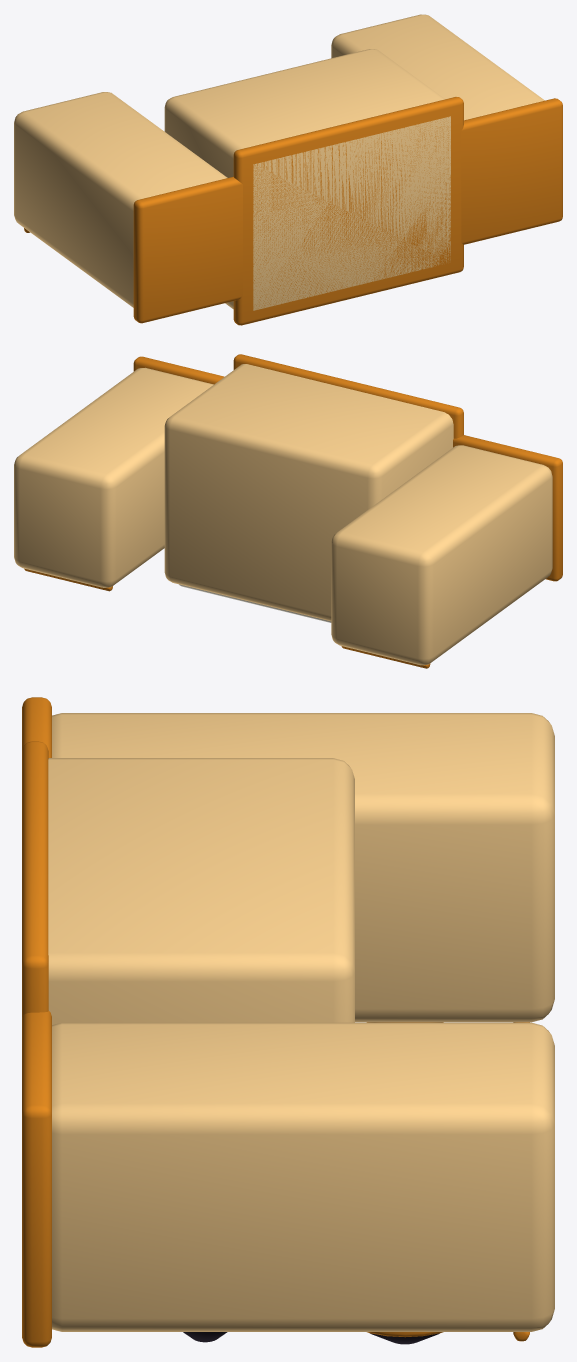
The model's file is SpeakerSystem_Premium.fbx.
3 views of the same model, one above another, from view 1: azimuth 30°, elevation 25°; view 2: azimuth 150°, elevation 25°; view 3: azimuth 270°, elevation 25° (orthographic). The views are drawn at different scales.
Visible parts, largest first — view 1: SpeakerSystem; view 2: SpeakerSystem; view 3: SpeakerSystem.
Boxes of the visible parts, x1,y1,x2,y2 form: SpeakerSystem: [14, 14, 562, 325]; SpeakerSystem: [14, 354, 562, 668]; SpeakerSystem: [22, 697, 554, 1347].
Size of the model in its own units: 1.18 by 0.5023 by 0.64.
